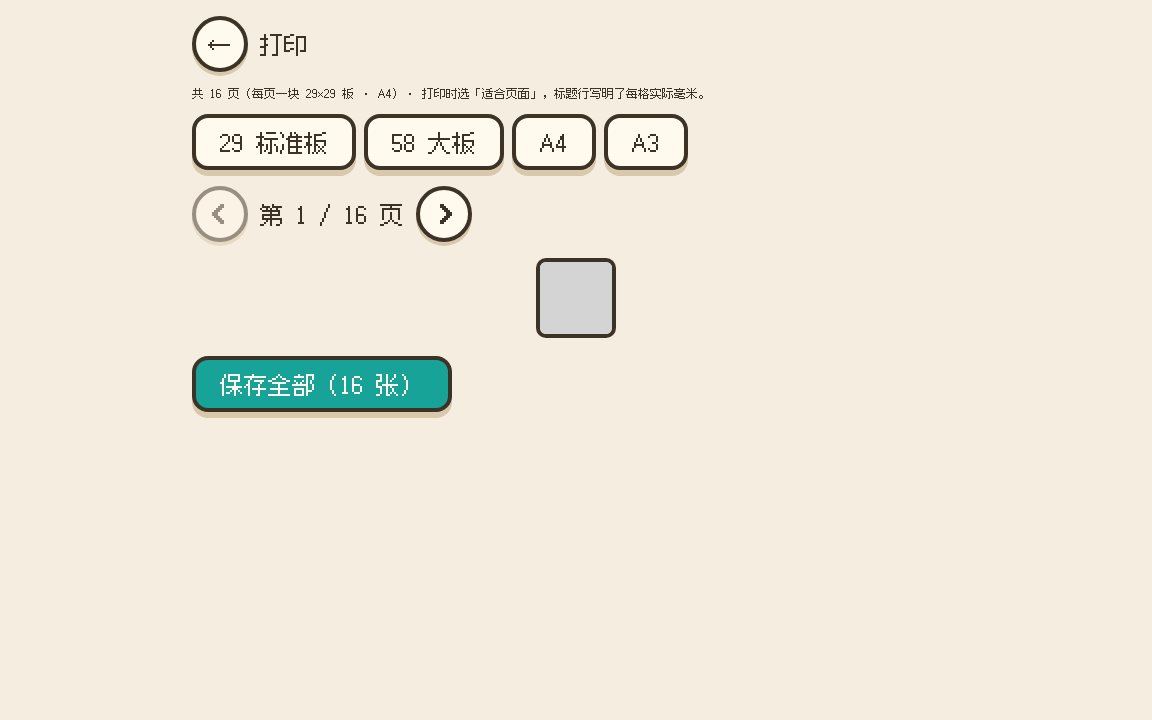
Test case: 保存经能力层落盘（规格 §5.4.3 / §9.2-2 —— G4 闸门的行为面） › 一键保存：每一笔落盘的实参是那颗 blob（恒等 + 逐字节）与带页序号的名字
The width and height of the screenshot is (1152, 720).
Click the button with test id "print-save-all". click: (322, 384)
box: [192,356,452,412]
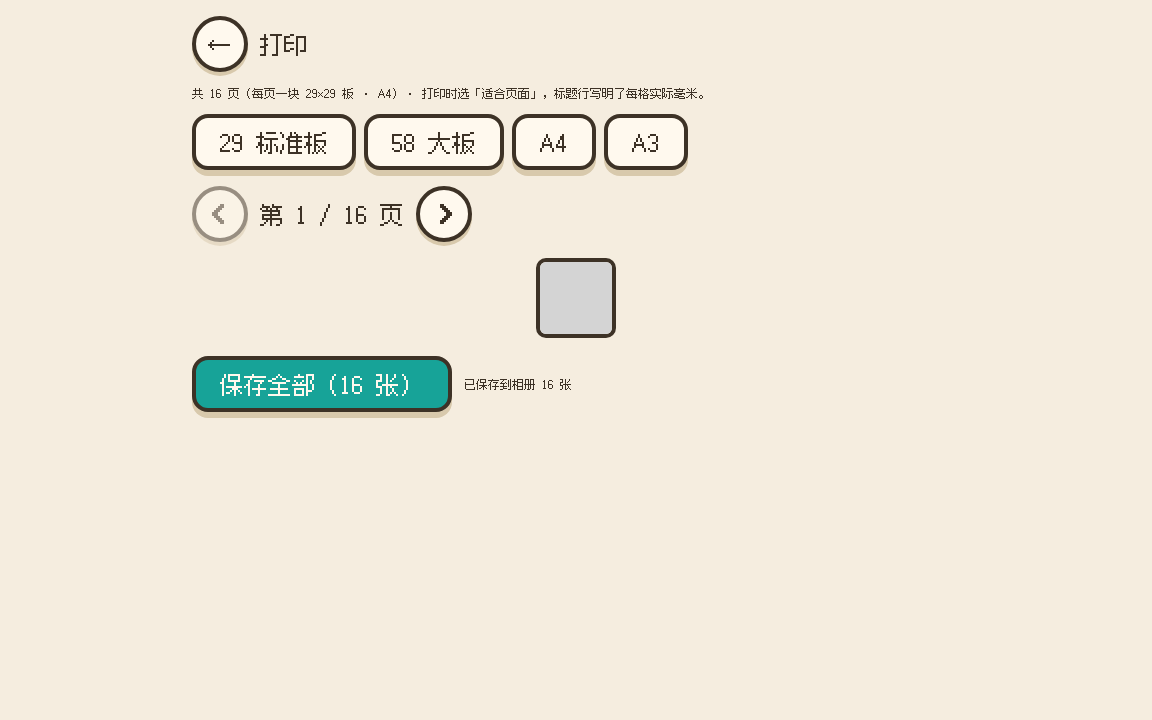
Result: the text with test id "print-save-state" reads "已保存到相册 16 张" at [464,376,572,392]
